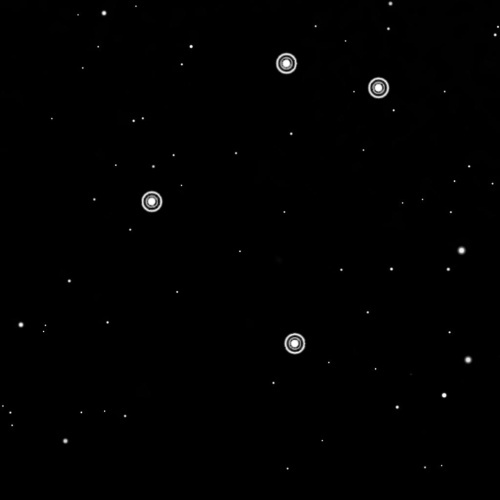coma_berenices: (135, 42, 394, 361)
